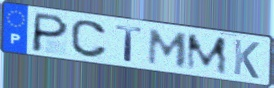C: (69, 18, 110, 60)
K: (232, 37, 261, 81)
M: (185, 32, 230, 76), (146, 27, 191, 69)
P: (29, 11, 71, 54)
T: (114, 23, 144, 64)
